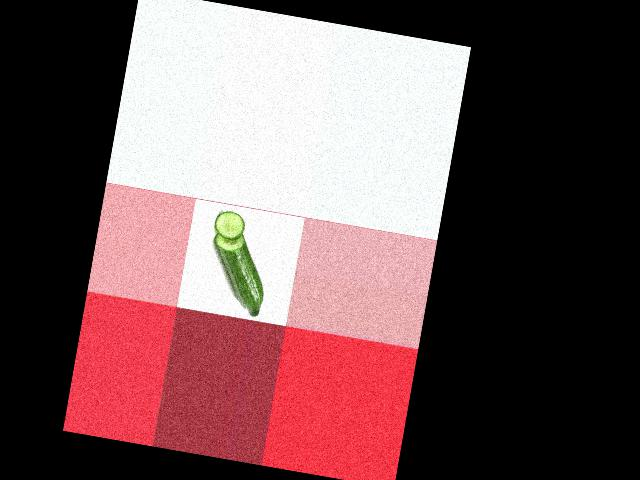cucumber: (202, 228, 273, 317)
